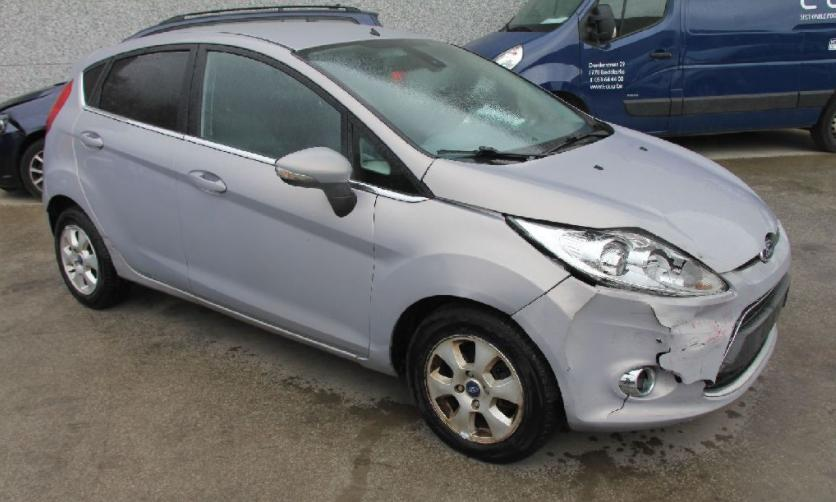Back-door: (73, 44, 198, 290)
Back-wheel: (54, 209, 132, 308)
Back-window: (83, 46, 196, 134)
Fender: (373, 193, 571, 360)
Front-bumper: (514, 223, 795, 432)
Front-door: (177, 44, 375, 359)
Front-wheel: (408, 305, 556, 464)
Front-window: (206, 50, 341, 161), (352, 124, 420, 194)
Grille: (705, 270, 791, 393)
Headlight: (507, 214, 728, 298)
Hood: (422, 124, 777, 276)
License-plate: (730, 300, 779, 378)
Mirror: (276, 147, 355, 216)
Quarter-panel: (41, 107, 106, 244)
Rocker-panel: (106, 235, 399, 378)
Roof: (128, 10, 436, 51)
Tail-light: (48, 82, 71, 130)
Windshield: (297, 38, 593, 165)
